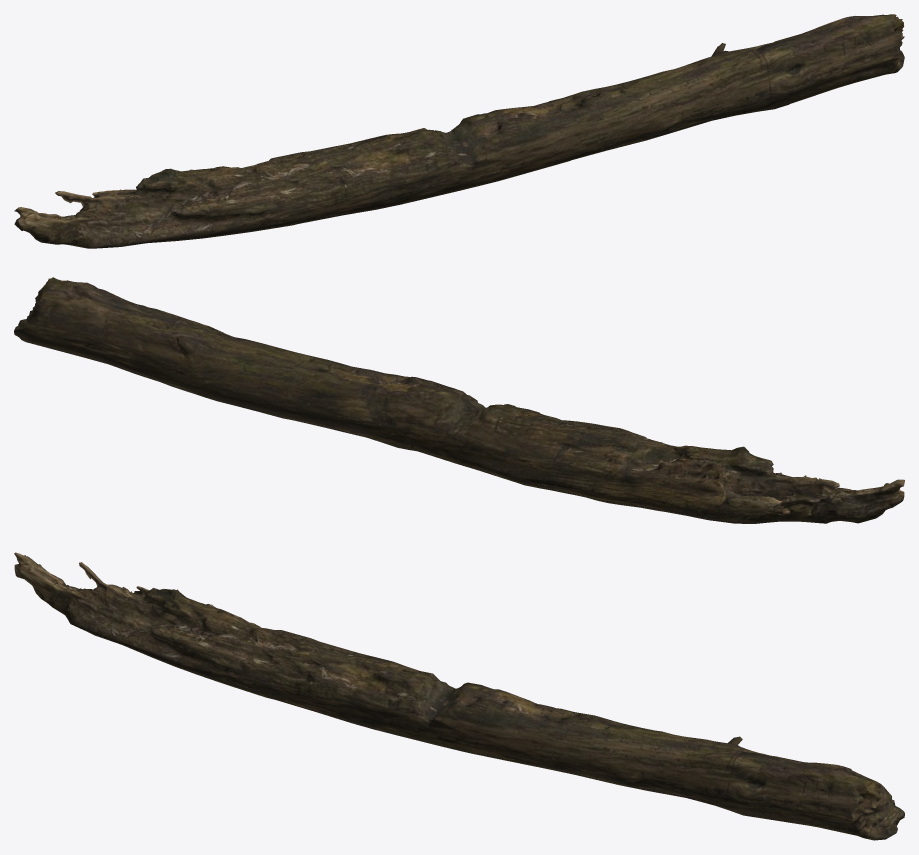
Rendered from dead_tree_trunk_wood.glb.
The picture shows the model from 3 angles, top to bottom: view 1: azimuth 30°, elevation 25°; view 2: azimuth 150°, elevation 25°; view 3: azimuth 330°, elevation 25°; orthographic projection.
Visible parts, largest first — view 1: dead_tree_trunk; view 2: dead_tree_trunk; view 3: dead_tree_trunk.
Boxes of the visible parts, x1,y1,x2,y2 form: dead_tree_trunk: [14, 14, 904, 248]; dead_tree_trunk: [14, 277, 904, 523]; dead_tree_trunk: [14, 552, 904, 840].
Bounding box in the file's own units: 3.05 × 0.2899 × 0.2774.
Materials: 1 (1 with a texture image).
